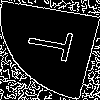T: (24, 25, 85, 65)
